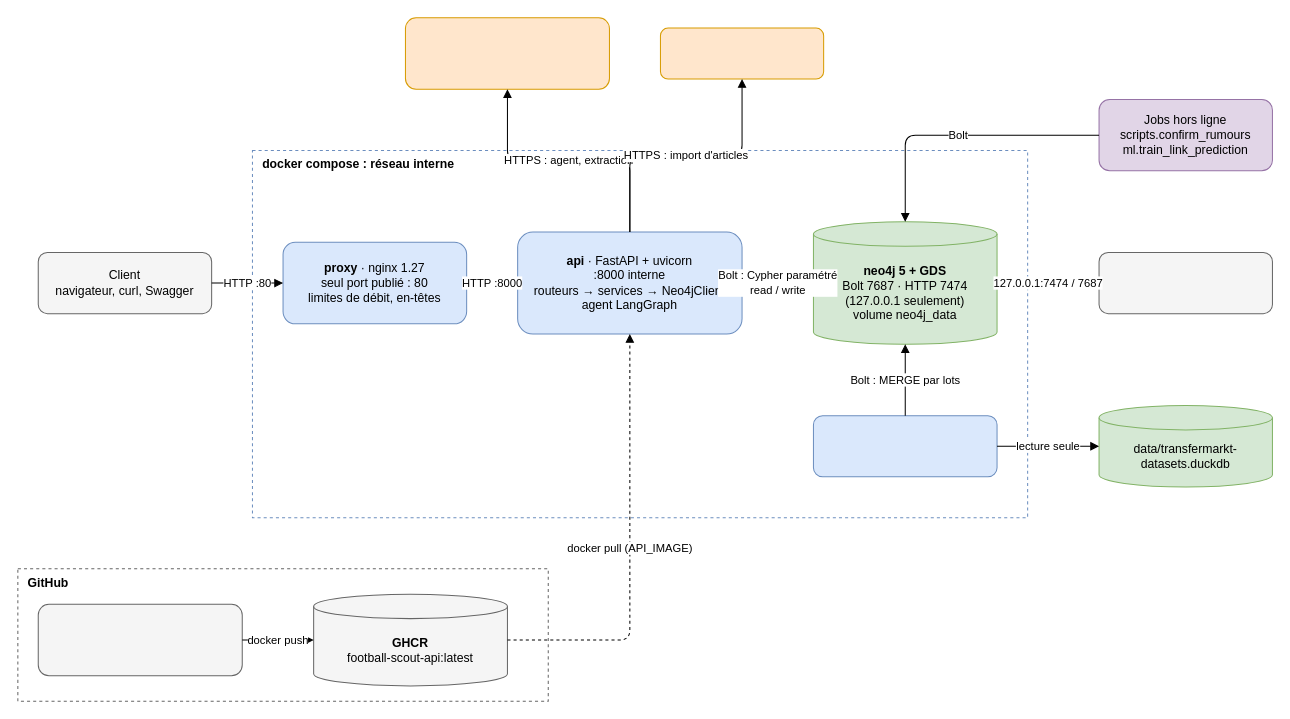
Image size: 1290x719. Some labels were removed from this diagram. Each missing label, with the centre of its shape:
"Développeur Neo4j Browser, cypher-shell" belongs at point 1185,282.
"Flux RSS de presse" belongs at point 741,53.
"Fournisseur LLM Anthropic ou compatible OpenAI (fake en test et en CI)" belongs at point 506,53.
"GitHub Actions lint · tests (Neo4j :7688) publish" belongs at point 139,639.
"ingest · scripts.seed_data exécution unique" belongs at point 904,446.
